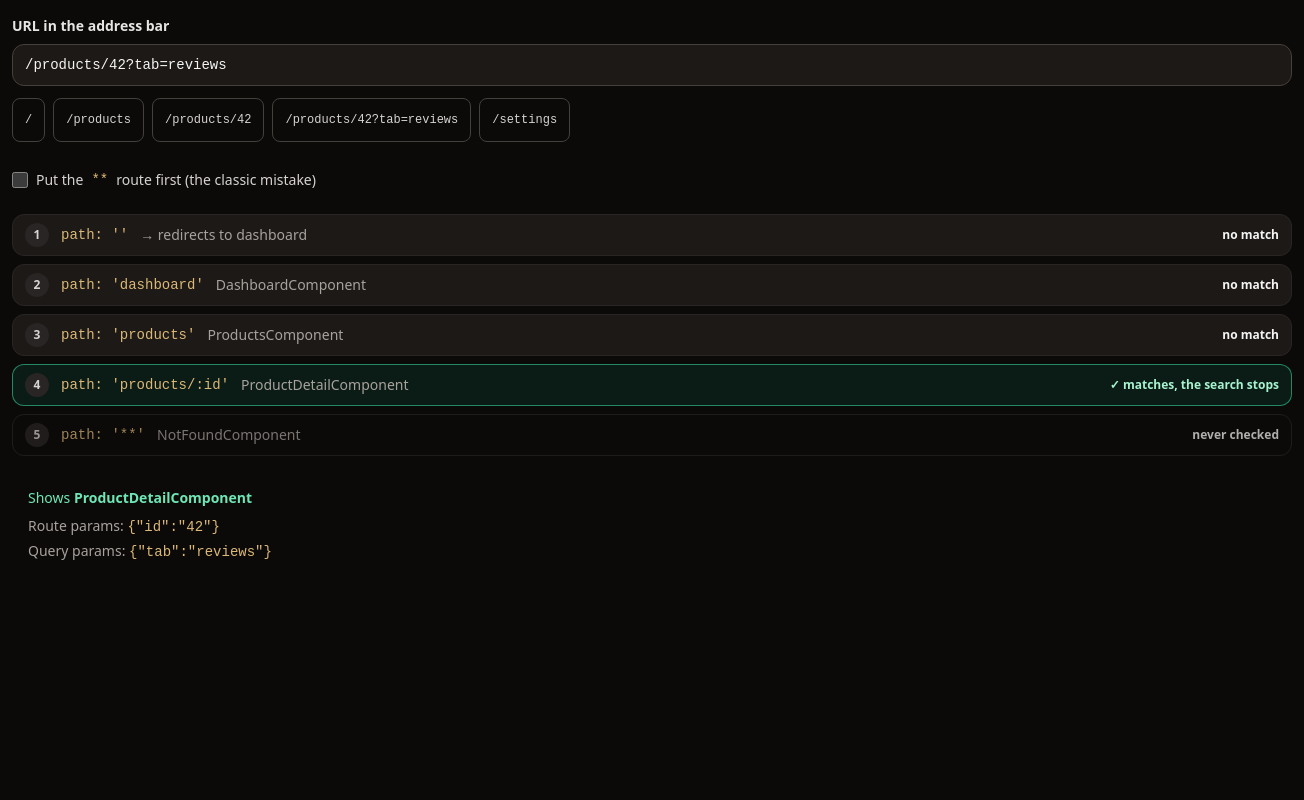
Test: RouteMatcherDemoComponent › makes everything land on NotFound when the wildcard is moved first
The width and height of the screenshot is (1304, 800).
Click the checkbox labelled "Put the ** route first (the classic mistake)" at point(20, 180), box [12,172,28,188]
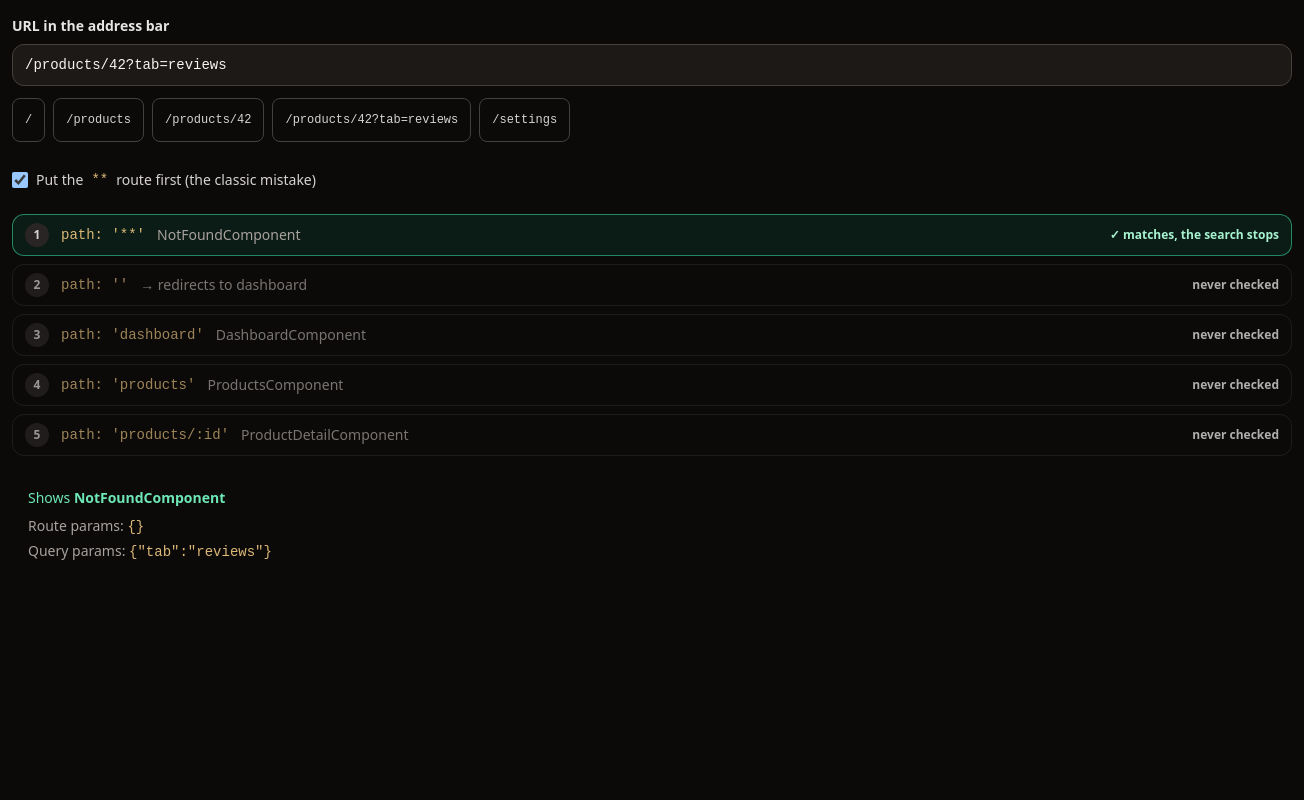
Expected: the text "NotFoundComponent" is shown, [157,225,301,245]
Expected: the text "✓ matches, the search stops" is shown, [1110,227,1279,243]
